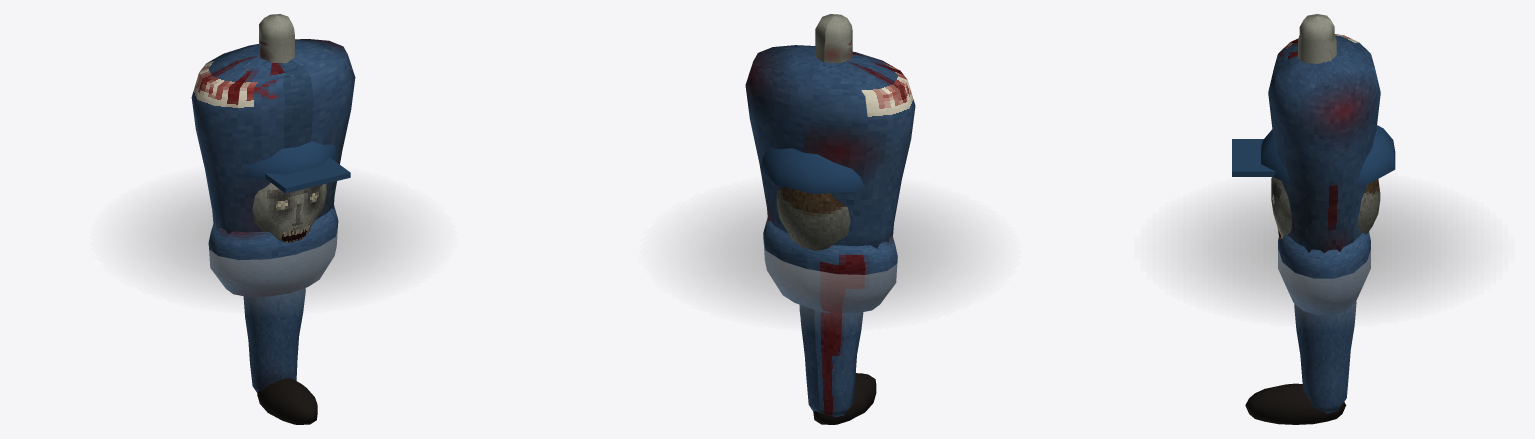
The picture shows the model from 3 angles, left to right: view 1: azimuth 30°, elevation 25°; view 2: azimuth 150°, elevation 25°; view 3: azimuth 270°, elevation 25°; orthographic projection. The views are drawn at different scales.
Visible parts, largest first — view 1: root__x__11, spine__x__1, core__x__0, legL1__x__12, head__h__4, head__h__3, legL2__x__14, spine__x__2; view 2: root__x__11, spine__x__1, core__x__0, legL1__x__12, head__h__3, head__h__4, spine__x__2, legL2__x__14; view 3: root__x__11, spine__x__1, core__x__0, legL1__x__12, head__h__4, legL2__x__14, head__h__3, spine__x__2.
Boxes of the visible parts, <box> form: root__x__11: <box>114,177,432,304</box>; spine__x__1: <box>191,39,355,234</box>; core__x__0: <box>208,205,338,296</box>; legL1__x__12: <box>243,288,305,392</box>; head__h__4: <box>243,141,350,193</box>; head__h__3: <box>252,183,326,242</box>; legL2__x__14: <box>257,378,317,424</box>; spine__x__2: <box>259,14,294,63</box>; root__x__11: <box>665,188,995,321</box>; spine__x__1: <box>745,45,915,248</box>; core__x__0: <box>763,218,897,313</box>; legL1__x__12: <box>799,304,863,417</box>; head__h__3: <box>776,187,850,250</box>; head__h__4: <box>760,148,865,193</box>; spine__x__2: <box>815,14,852,63</box>; legL2__x__14: <box>813,373,876,424</box>; root__x__11: <box>1159,183,1489,317</box>; spine__x__1: <box>1268,34,1380,252</box>; core__x__0: <box>1278,232,1370,314</box>; legL1__x__12: <box>1294,301,1356,413</box>; head__h__4: <box>1232,125,1395,185</box>; legL2__x__14: <box>1245,383,1346,424</box>; head__h__3: <box>1271,177,1380,238</box>; spine__x__2: <box>1298,14,1336,63</box>.
Bounding box in the file's own units: 1.05 × 1.19 × 1.05.
7 materials, 5 textured.
